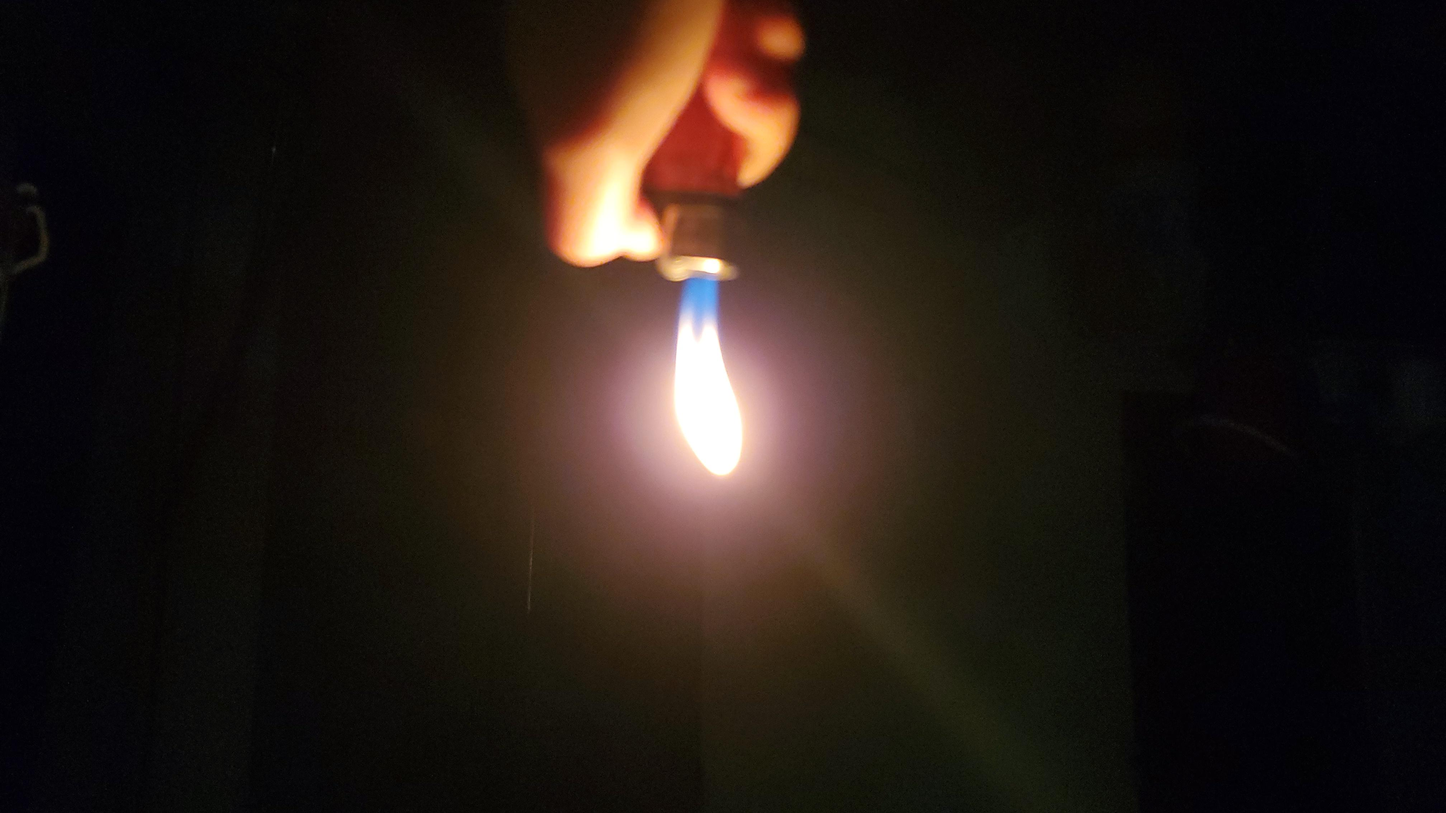fire: (700, 310, 784, 509)
